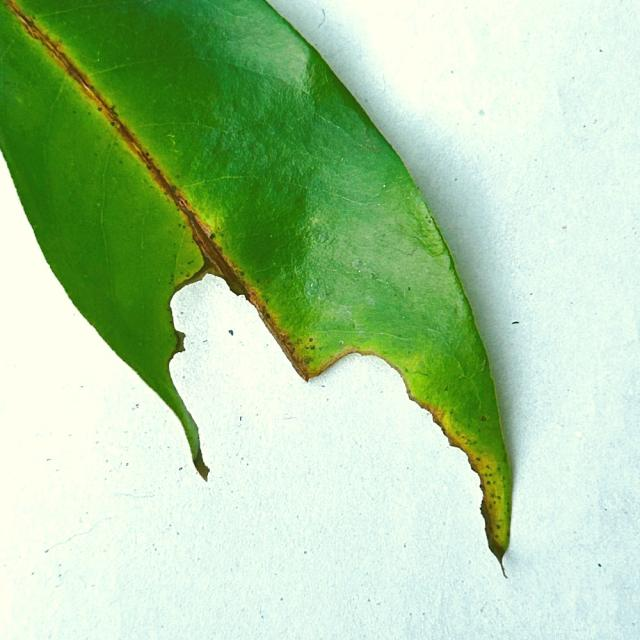Deficiency Leaf: (170, 277, 495, 574)
Lychee: (0, 0, 515, 566)
